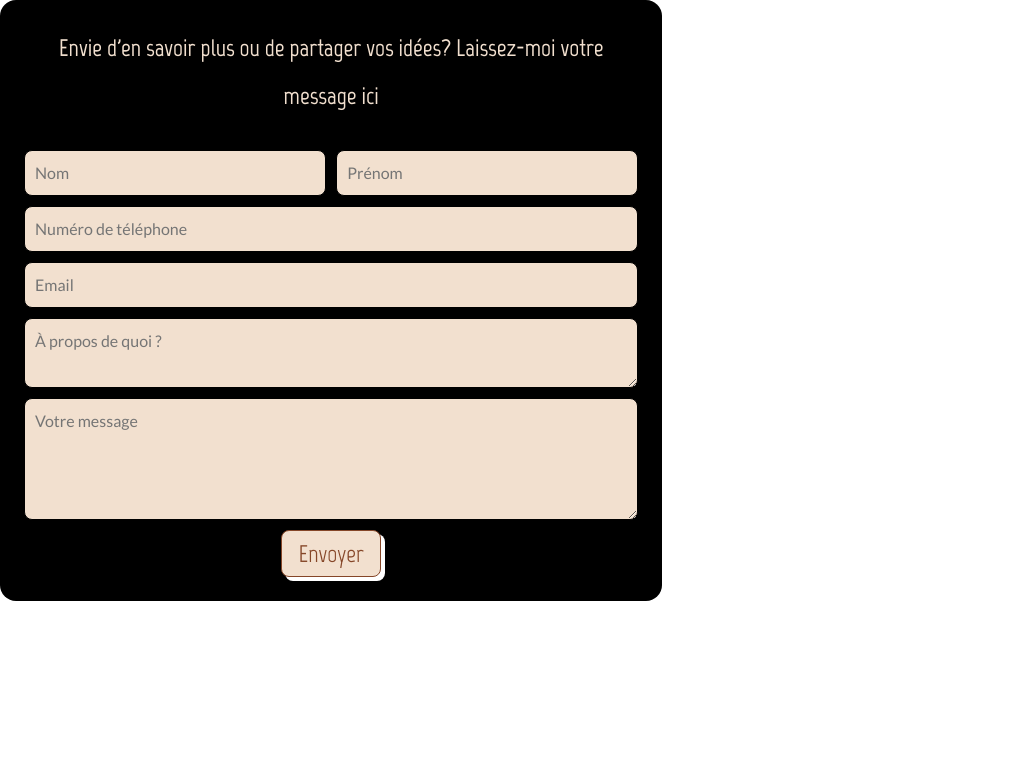
Test: SignupForm › renders the form and submits successfully
expect the field with placeholder "Prénom" is shown: met, box [336, 150, 638, 196]
expect the field with placeholder "Numéro de téléphone" is shown: met, box [24, 206, 638, 252]
Remplir les champs du formulaire avec des valeurs de test
Type "BROBAN" into the field with placeholder "Nom".
click(175, 173); type("BROBAN")  # box [24, 150, 326, 196]
Type "Virginie" into the field with placeholder "Prénom".
click(487, 173); type("Virginie")  # box [336, 150, 638, 196]
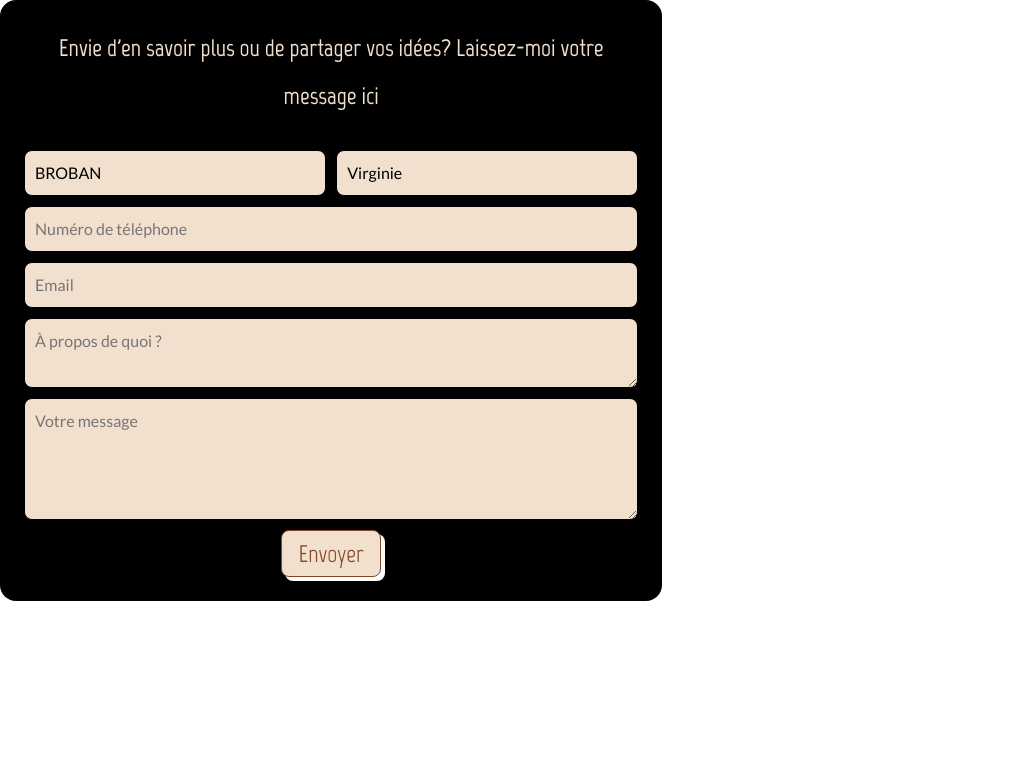
Type "123456" into the field with placeholder "Numéro de téléphone".
click(331, 229); type("123456")  # box [24, 206, 638, 252]
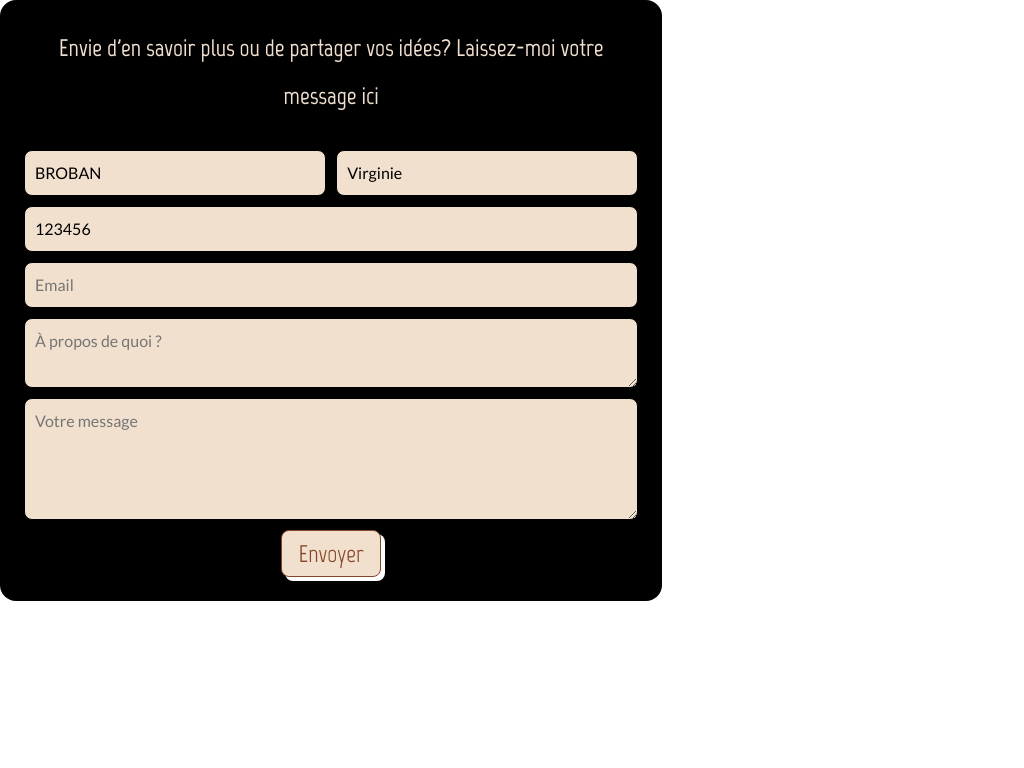
Type "vig@example.com" into the field with placeholder "Email".
click(331, 285); type("vig@example.com")  # box [24, 262, 638, 308]
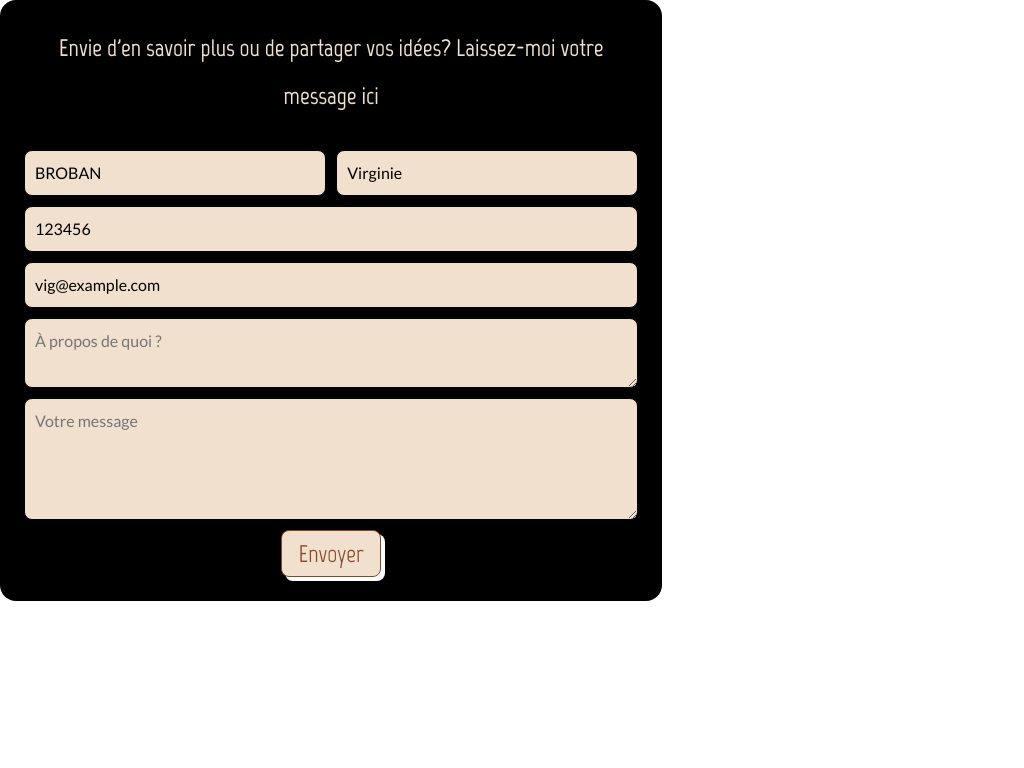
Type "Objet" into the text box with placeholder "À propos de quoi ?".
click(331, 353); type("Objet")  # box [24, 318, 638, 388]
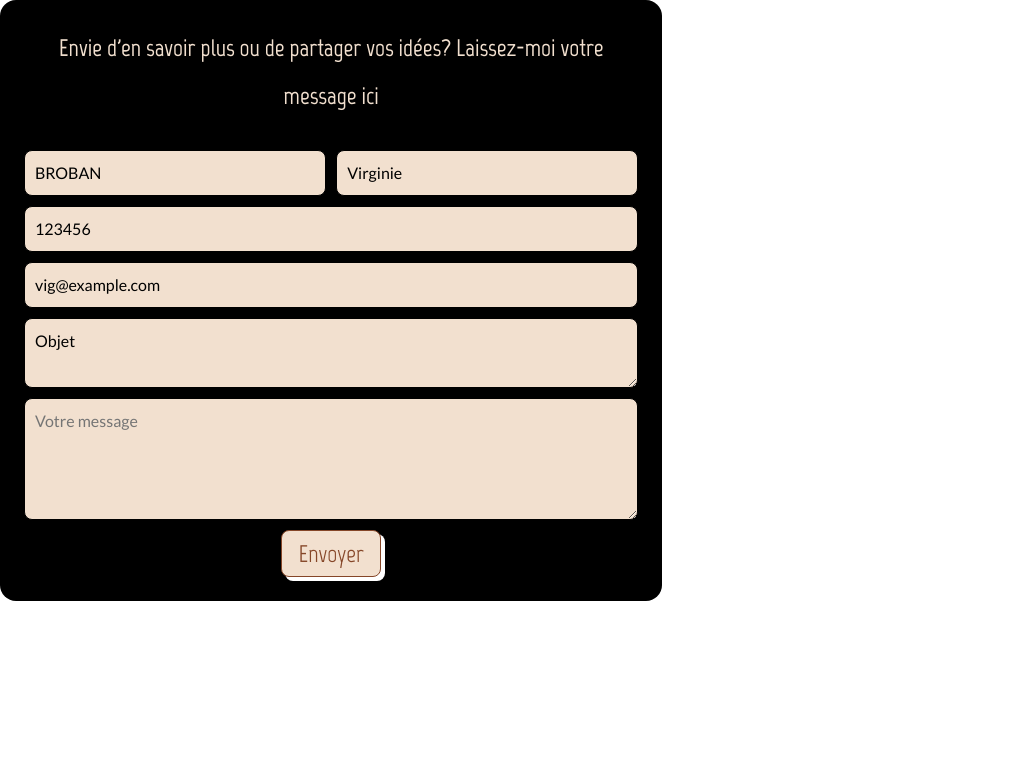
Type "Hello" into the text box with placeholder "Votre message".
click(331, 459); type("Hello")  # box [24, 398, 638, 520]
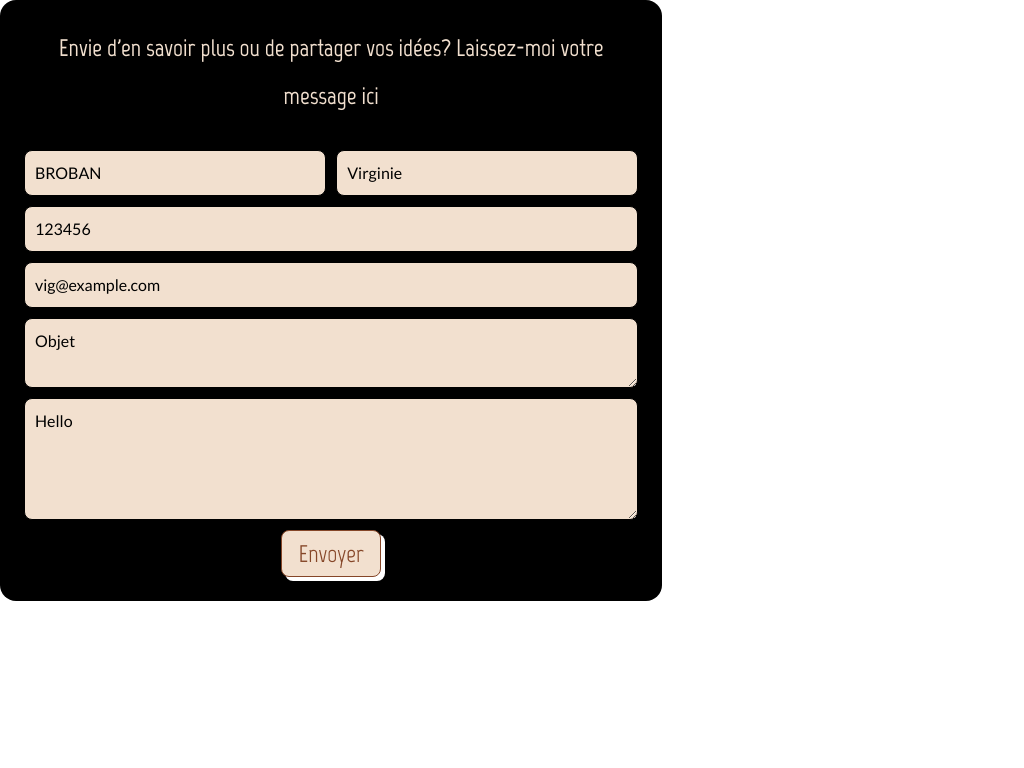
Simuler un clic sur le bouton "Envoyer" pour soumettre le formulaire
Click the button "Envoyer".
click(331, 554)  # box [281, 530, 381, 577]
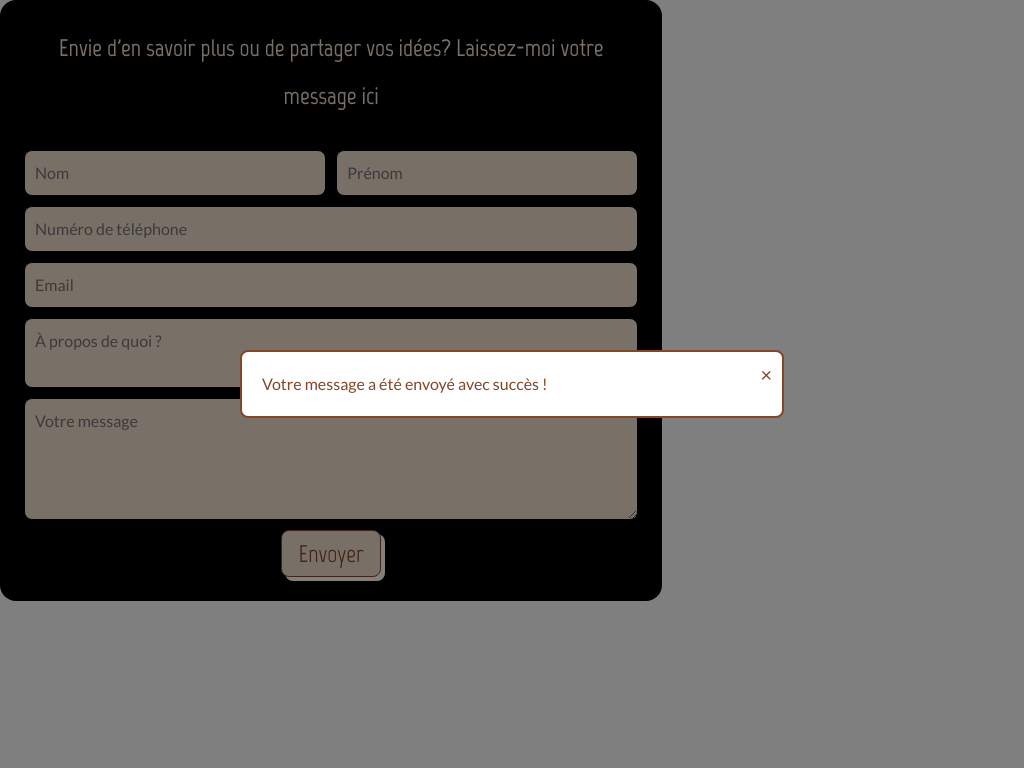
expect the text "Votre message a été envoyé avec succès !" is shown: met, box [262, 374, 548, 393]
